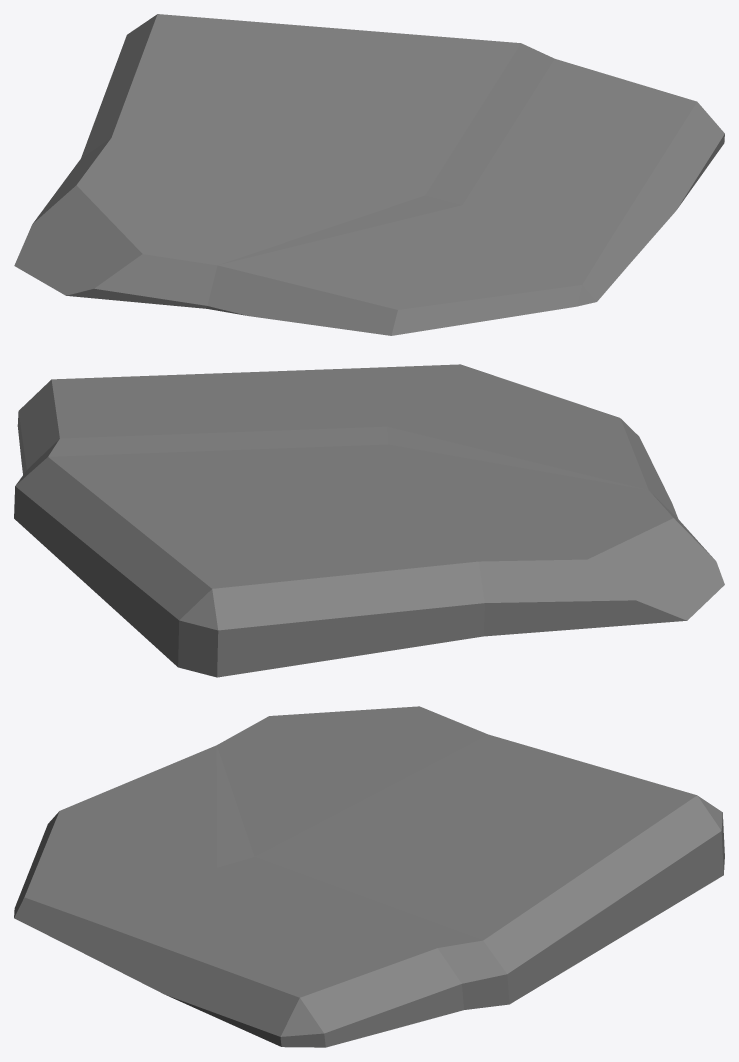
Rendered from model_polytope_pavement04.fbx.
3 views of the same model, one above another, from view 1: azimuth 30°, elevation 25°; view 2: azimuth 150°, elevation 25°; view 3: azimuth 270°, elevation 25° (orthographic). The views are drawn at different scales.
Parts seen in each view (by area): view 1: model_polytope_pavement04; view 2: model_polytope_pavement04; view 3: model_polytope_pavement04.
Part boxes in pixels (x1,y1,x2,y2): model_polytope_pavement04: (14,14,724,335); model_polytope_pavement04: (14,364,724,677); model_polytope_pavement04: (14,706,724,1047).
Size of the model in its own units: 131 by 13.13 by 120.
